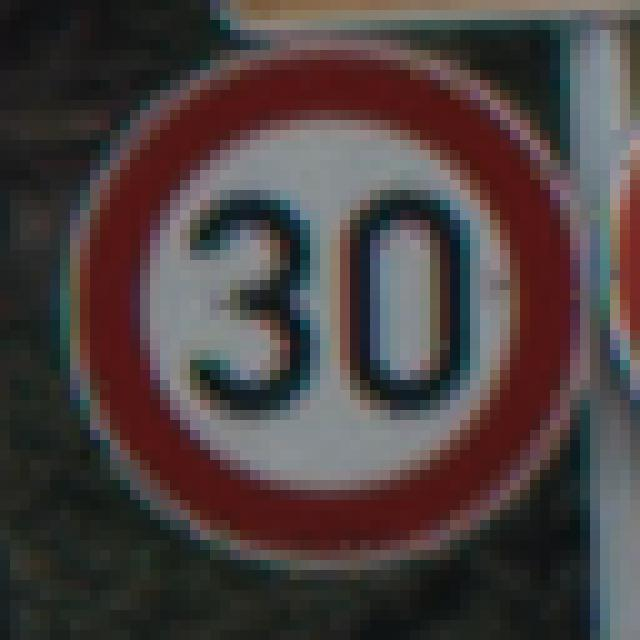Speed Limit -30-: (45, 45, 585, 575)
